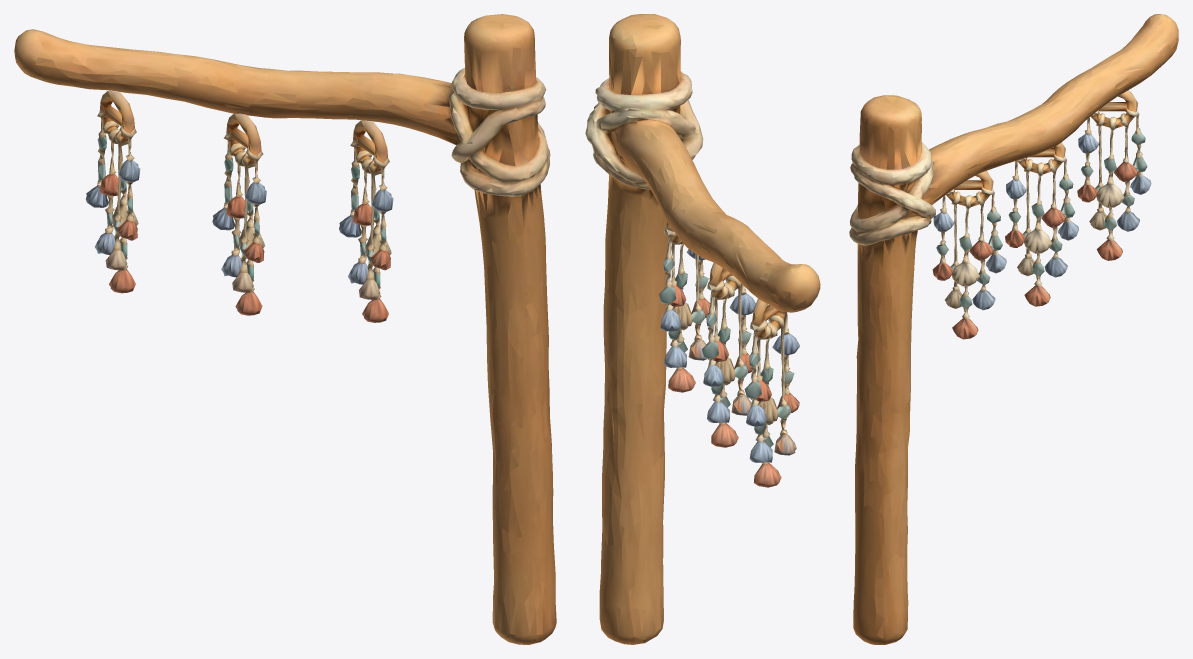
3 renders of one model, left to right at view 1: azimuth 30°, elevation 25°; view 2: azimuth 150°, elevation 25°; view 3: azimuth 270°, elevation 25°, orthographic. The views are drawn at different scales.
Parts seen in each view (by area): view 1: P04_Post, P04_ChimePivot_1, P04_ChimePivot_2, P04_ChimePivot_3; view 2: P04_Post, P04_ChimePivot_3, P04_ChimePivot_2, P04_ChimePivot_1; view 3: P04_Post, P04_ChimePivot_3, P04_ChimePivot_1, P04_ChimePivot_2.
Part boxes in pixels (x1,y1,x2,y2): P04_Post: [14, 14, 556, 644]; P04_ChimePivot_1: [339, 120, 393, 322]; P04_ChimePivot_2: [212, 113, 266, 315]; P04_ChimePivot_3: [86, 90, 140, 293]; P04_Post: [585, 14, 820, 644]; P04_ChimePivot_3: [744, 298, 799, 487]; P04_ChimePivot_2: [702, 263, 755, 447]; P04_ChimePivot_1: [659, 222, 710, 392]; P04_Post: [849, 14, 1178, 644]; P04_ChimePivot_3: [1077, 90, 1151, 260]; P04_ChimePivot_1: [932, 171, 1006, 339]; P04_ChimePivot_2: [1005, 142, 1078, 306].
Bounding box in the file's own units: 1.33 × 2.1 × 1.19.
2 materials, 2 textured.
